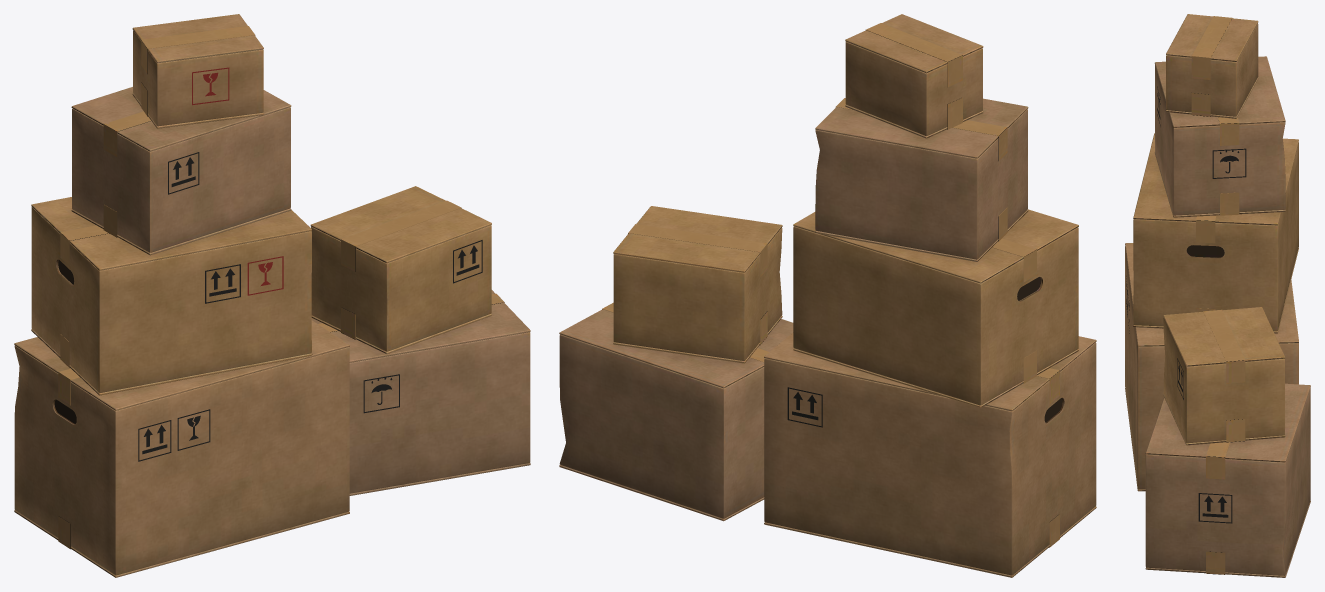
The model's file is cardboard-box-stack.glb.
3 renders of one model, left to right at view 1: azimuth 30°, elevation 25°; view 2: azimuth 150°, elevation 25°; view 3: azimuth 270°, elevation 25°, orthographic. The views are drawn at different scales.
Visible parts, largest first — view 1: cardboard-box-stack_body, cardboard-box-stack_box_c_print, cardboard-box-stack_box_a_print; view 2: cardboard-box-stack_body; view 3: cardboard-box-stack_body, cardboard-box-stack_box_b_print, cardboard-box-stack_box_e_print.
Boxes of the visible parts, x1,y1,x2,y2 form: cardboard-box-stack_body: (14, 14, 530, 577); cardboard-box-stack_box_c_print: (205, 256, 283, 303); cardboard-box-stack_box_a_print: (138, 409, 210, 461); cardboard-box-stack_body: (559, 14, 1096, 577); cardboard-box-stack_body: (1125, 14, 1310, 577); cardboard-box-stack_box_b_print: (1198, 493, 1232, 523); cardboard-box-stack_box_e_print: (1157, 86, 1246, 178).
Bounding box in the file's own units: 1.13 × 1.12 × 0.4598.
3 materials, 1 textured.
